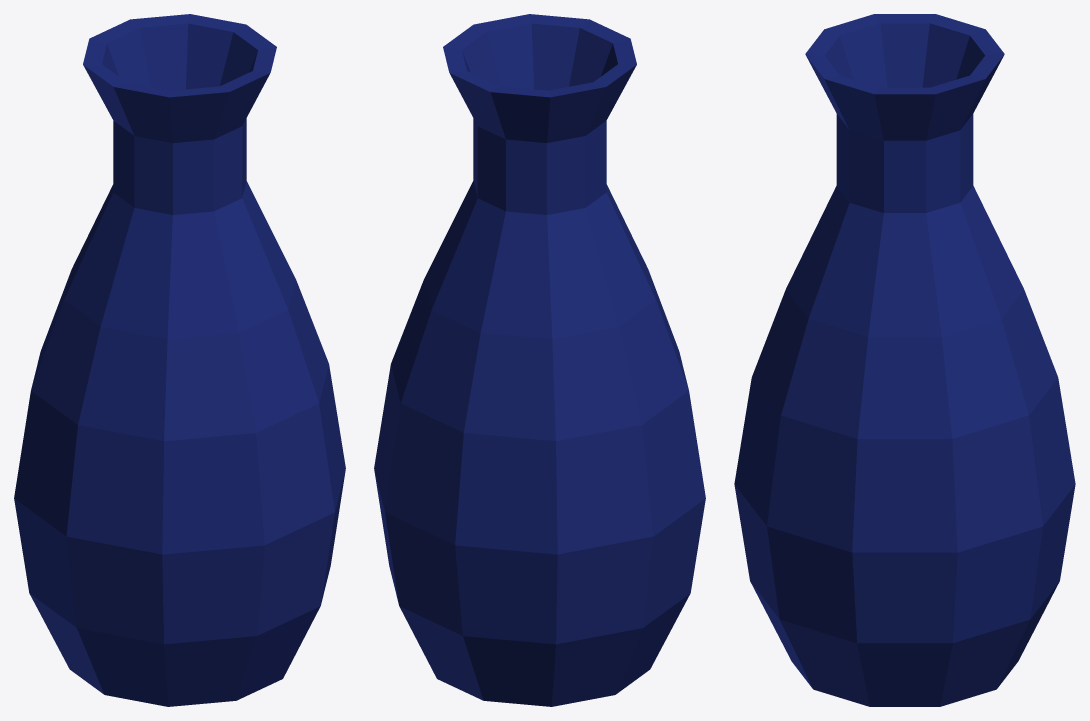
Rendered from vase02.gltf.
3 renders of one model, left to right at view 1: azimuth 30°, elevation 25°; view 2: azimuth 150°, elevation 25°; view 3: azimuth 270°, elevation 25°, orthographic.
Visible parts, largest first — view 1: Cylinder; view 2: Cylinder; view 3: Cylinder.
Boxes of the visible parts, left/top/right/bottom form: Cylinder: left=14, top=14, right=345, bottom=706; Cylinder: left=374, top=14, right=705, bottom=706; Cylinder: left=734, top=14, right=1075, bottom=706.
Size of the model in its own units: 0.1485 by 0.3067 by 0.1562.
1 material, 1 textured.
